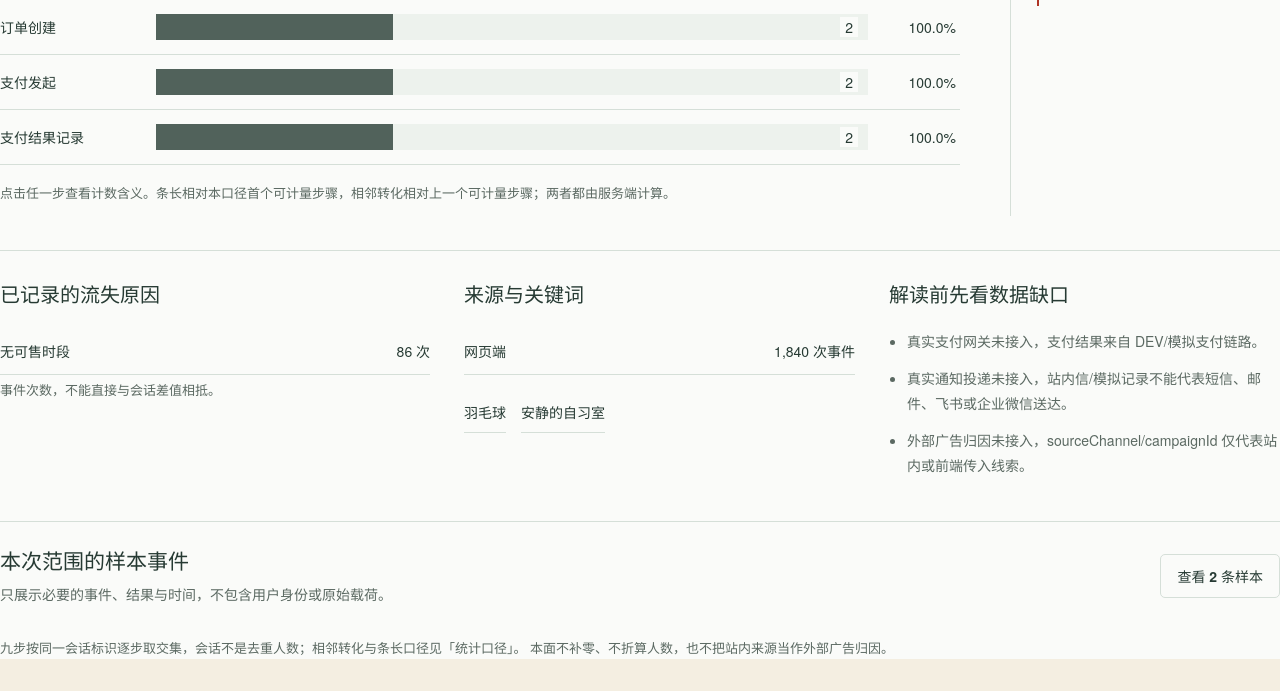
Test case: 拾光场馆漏斗面 › shows the real failure inside the sample dialog instead of falling back to embedded rows
(page scrolled)
Click the button with test id "funnel-samples". click: (1220, 576)
box: 1160,554 -> 1279,598
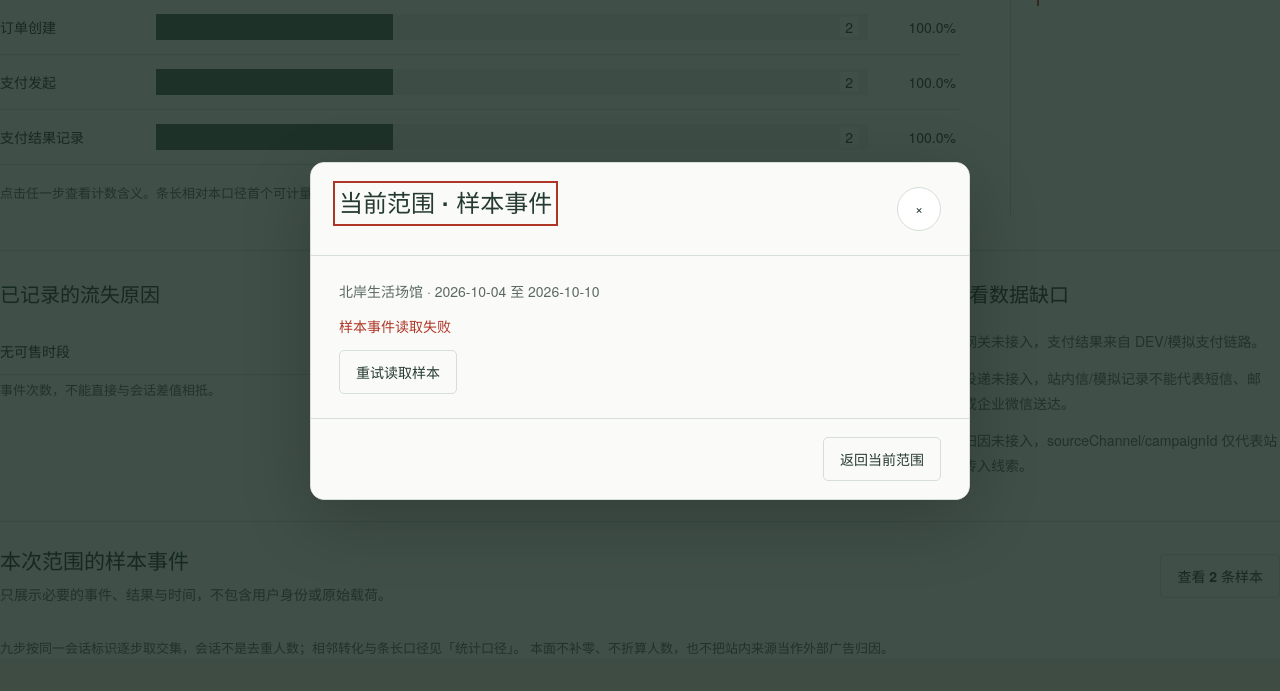
Result: the message with test id "funnel-samples-error" reads "样本事件读取失败" at 339,316 -> 451,336
Click the button with test id "funnel-samples-retry". click: (398, 372)
box: 339,350 -> 457,394
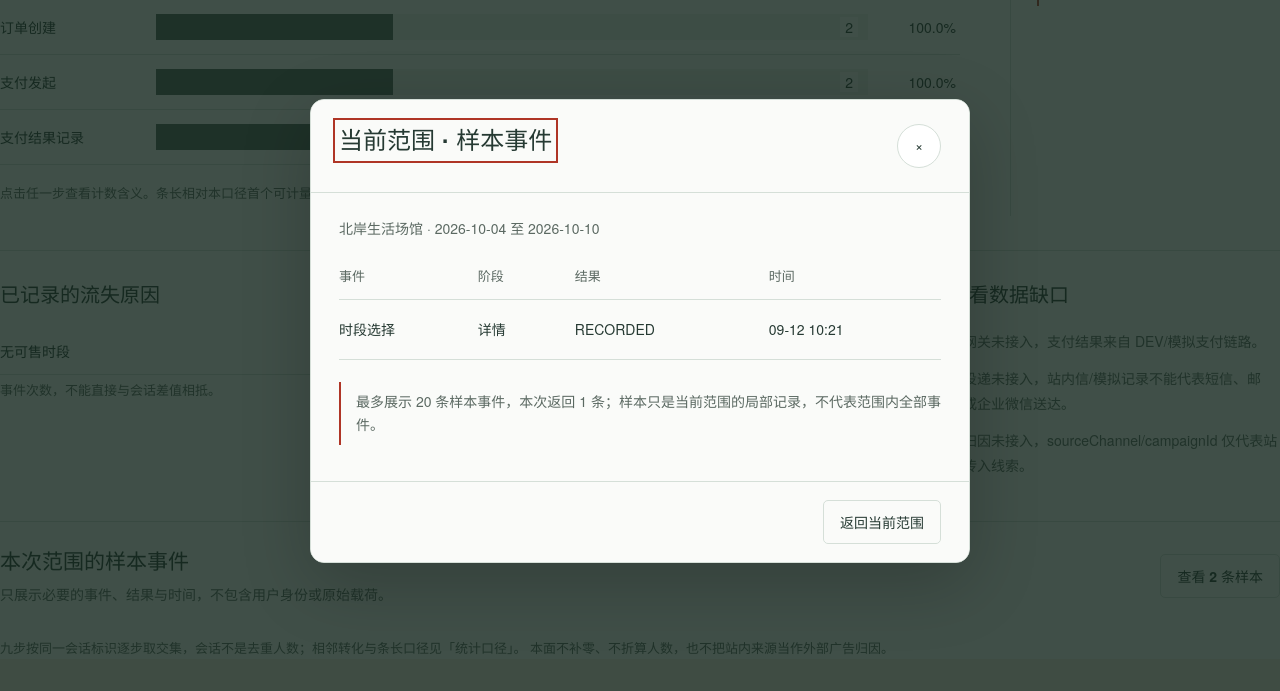
Result: the table with test id "funnel-sample-table" shows "时段选择" at 339,319 -> 395,339
